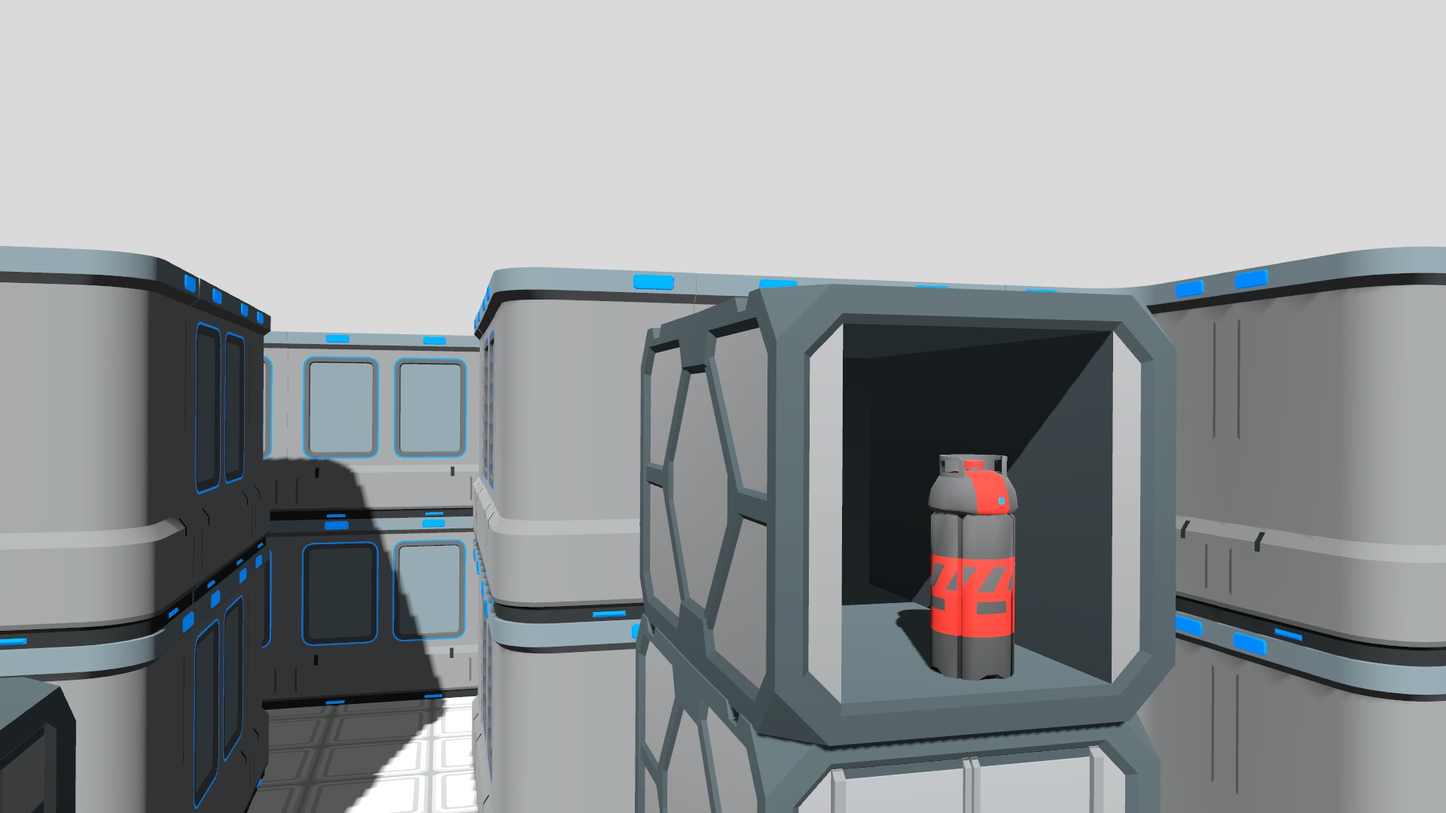red_barrel: (920, 441, 1026, 686)
